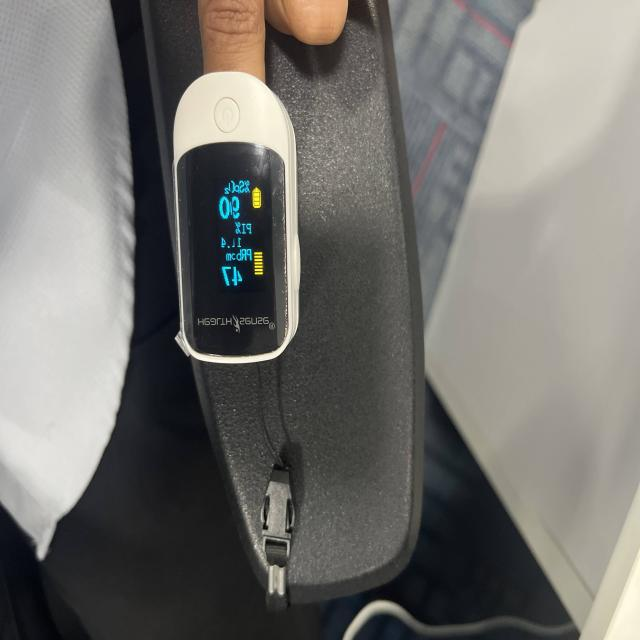spo2: (169, 69, 303, 367)
